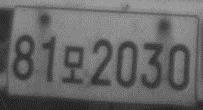0: (166, 42, 191, 91), (114, 40, 138, 89)
1: (40, 33, 56, 83)
2: (88, 37, 114, 88)
3: (138, 41, 164, 90)
8: (9, 32, 36, 80)
모: (58, 44, 85, 85)
